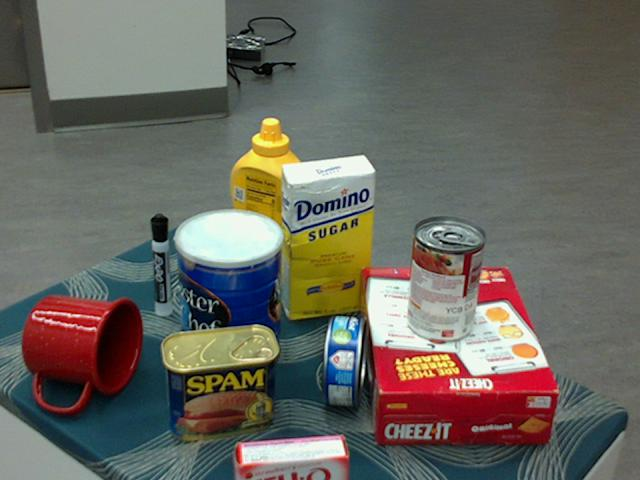cracker_box: (357, 269, 559, 441)
gelatin_box: (231, 435, 345, 479)
large_marker: (150, 212, 169, 315)
master_chef_can: (175, 209, 283, 383)
mug: (21, 294, 142, 412)
mustard_bottle: (230, 118, 310, 288)
potted_meat_can: (160, 324, 278, 440)
sugar_box: (280, 156, 376, 321)
tomato_soup_can: (405, 217, 485, 343)
tuna_fish_can: (323, 316, 366, 407)
